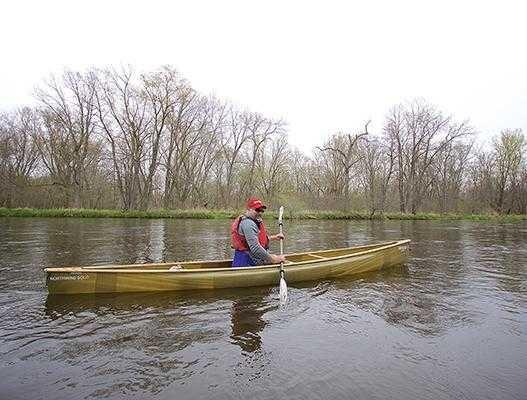kayak: (45, 239, 411, 295)
